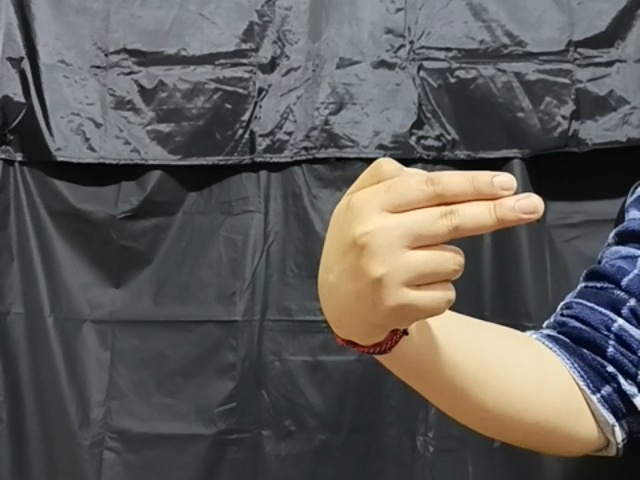H: (314, 156, 547, 333)
